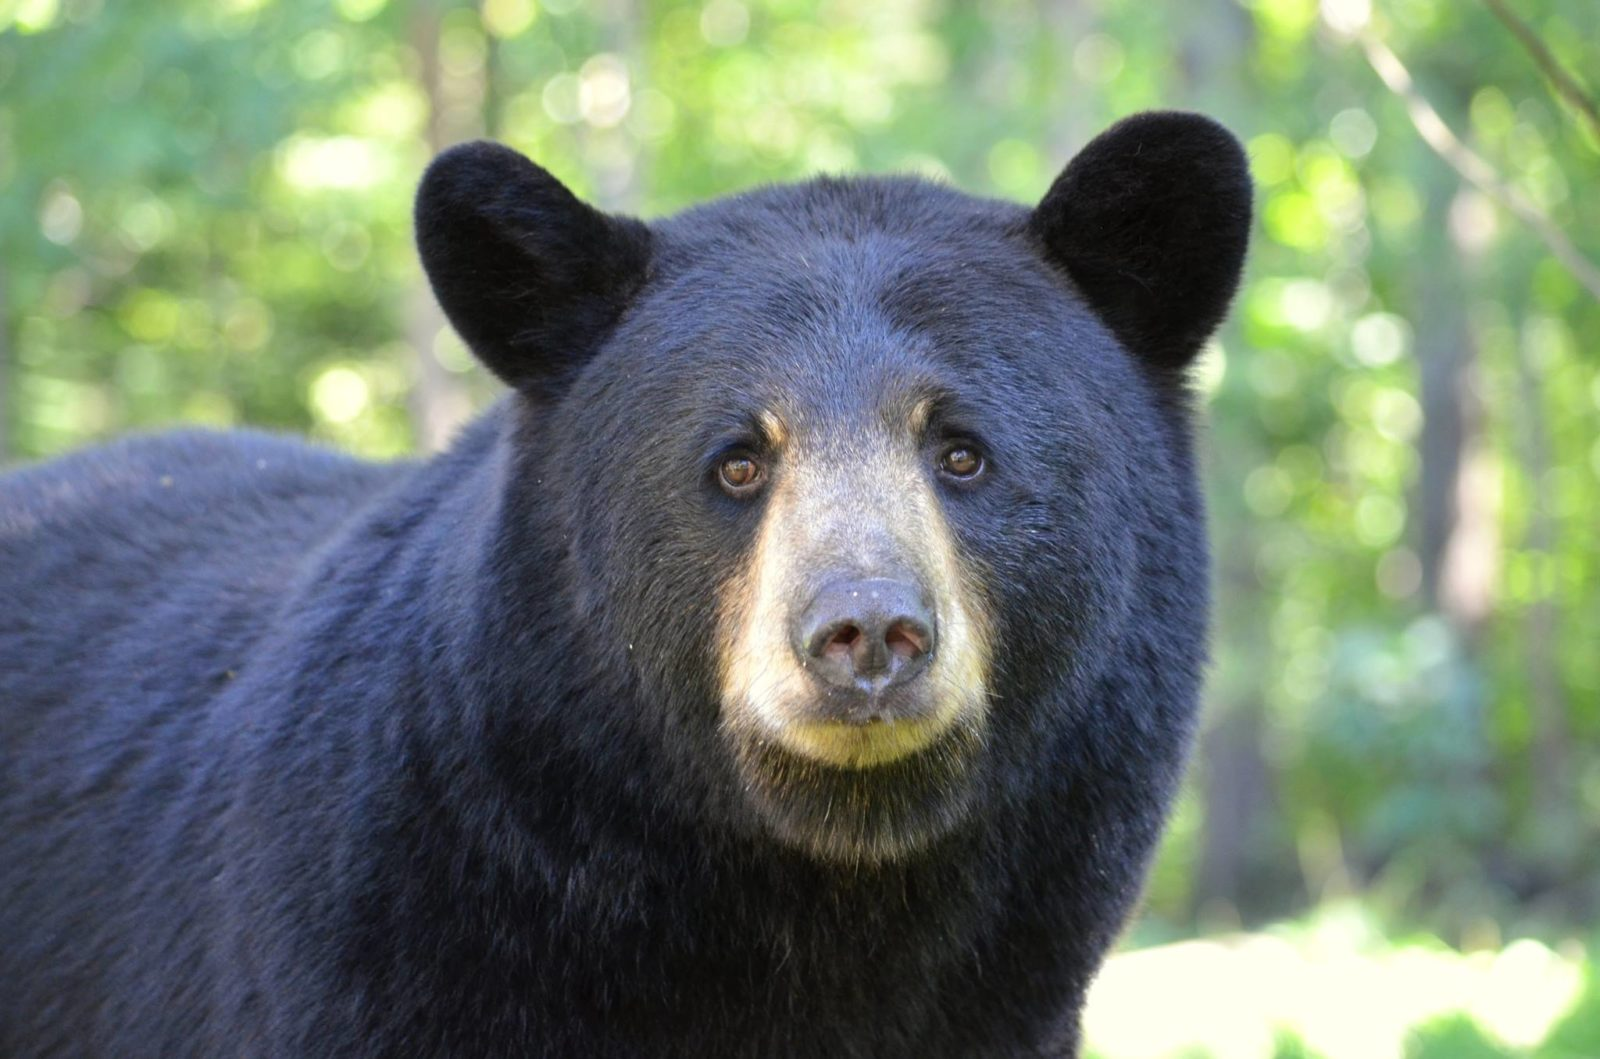bear: (1, 113, 1255, 1055)
